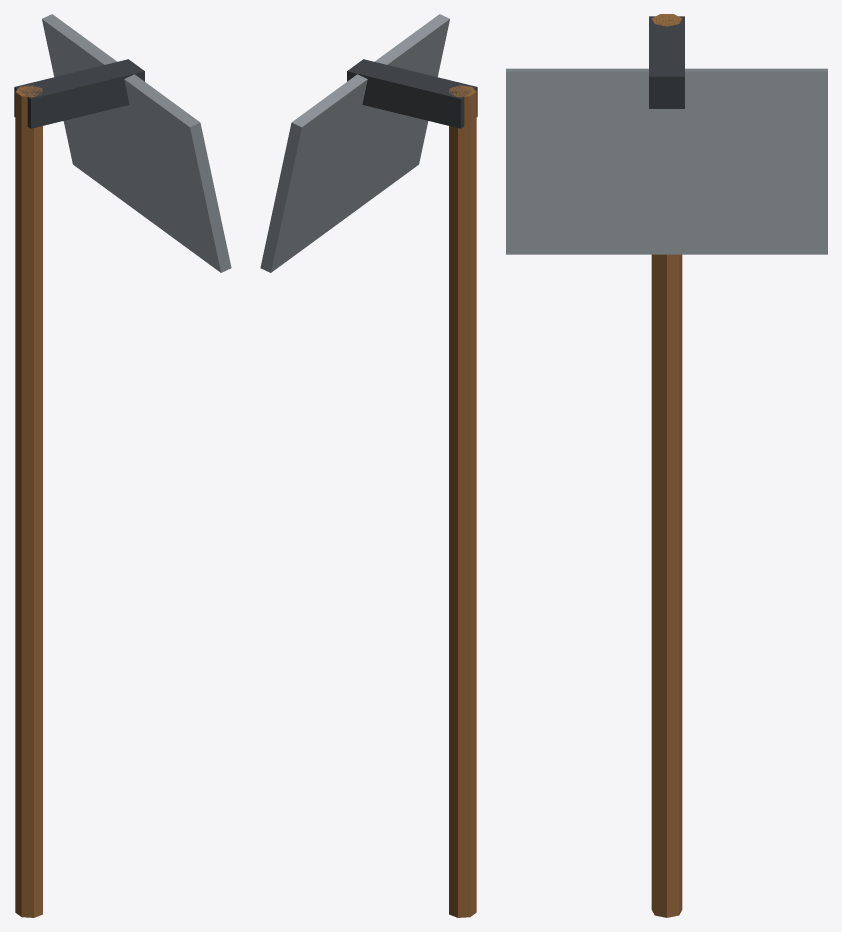
File: uprawa-motyka.glb
3 renders of one model, left to right at view 1: azimuth 30°, elevation 25°; view 2: azimuth 150°, elevation 25°; view 3: azimuth 270°, elevation 25°, orthographic. The views are drawn at different scales.
Parts seen in each view (by area): view 1: uprawa-motyka-0, uprawa-motyka-2, uprawa-motyka-1; view 2: uprawa-motyka-0, uprawa-motyka-2, uprawa-motyka-1; view 3: uprawa-motyka-2, uprawa-motyka-0, uprawa-motyka-1.
Part boxes in pixels (<box>): uprawa-motyka-0: <box>15,85,42,917</box>; uprawa-motyka-2: <box>42,14,231,272</box>; uprawa-motyka-1: <box>14,59,144,128</box>; uprawa-motyka-0: <box>449,85,476,917</box>; uprawa-motyka-2: <box>260,14,449,272</box>; uprawa-motyka-1: <box>347,59,477,128</box>; uprawa-motyka-2: <box>506,68,827,254</box>; uprawa-motyka-0: <box>651,14,682,917</box>; uprawa-motyka-1: <box>649,16,684,108</box>.
Size of the model in its own units: 0.3899 by 2.2 by 0.72.
